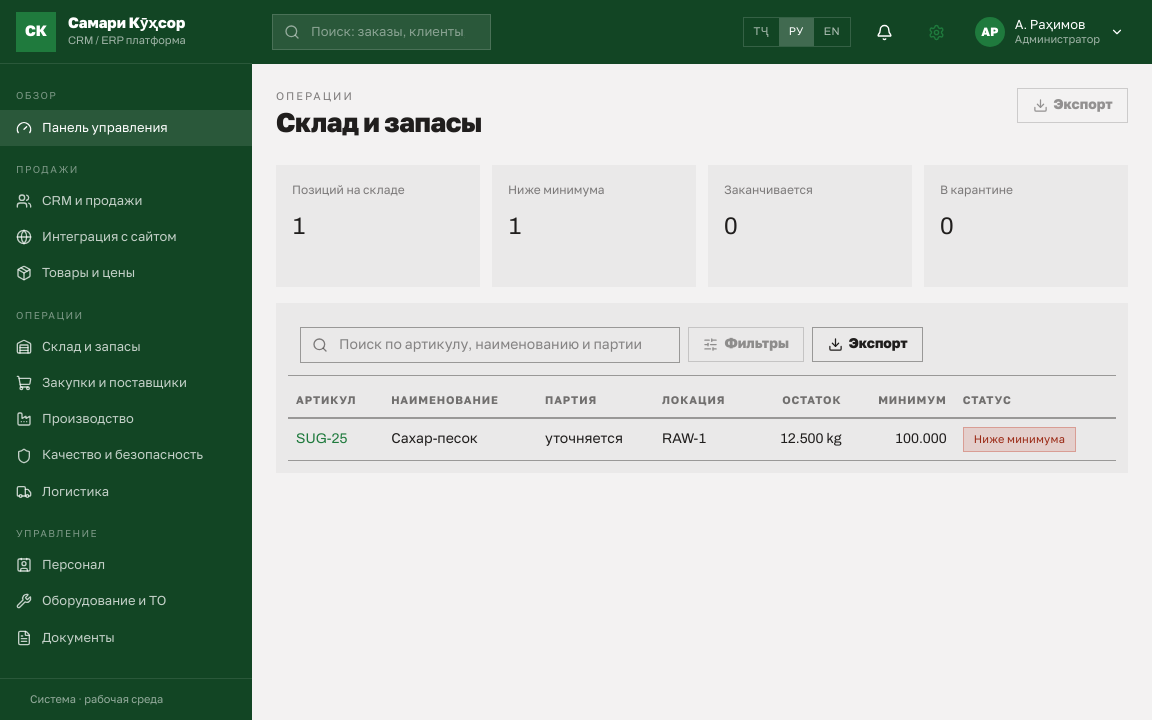
Test: Склад › shows the no-match state when a search excludes everything
Expected: the text "Сахар-песок" is shown, [383, 418, 537, 460]
Type "ничего" into the search field labelled "Поиск по артикулу, наименованию и партии" at (490, 345), box [300, 327, 680, 363]
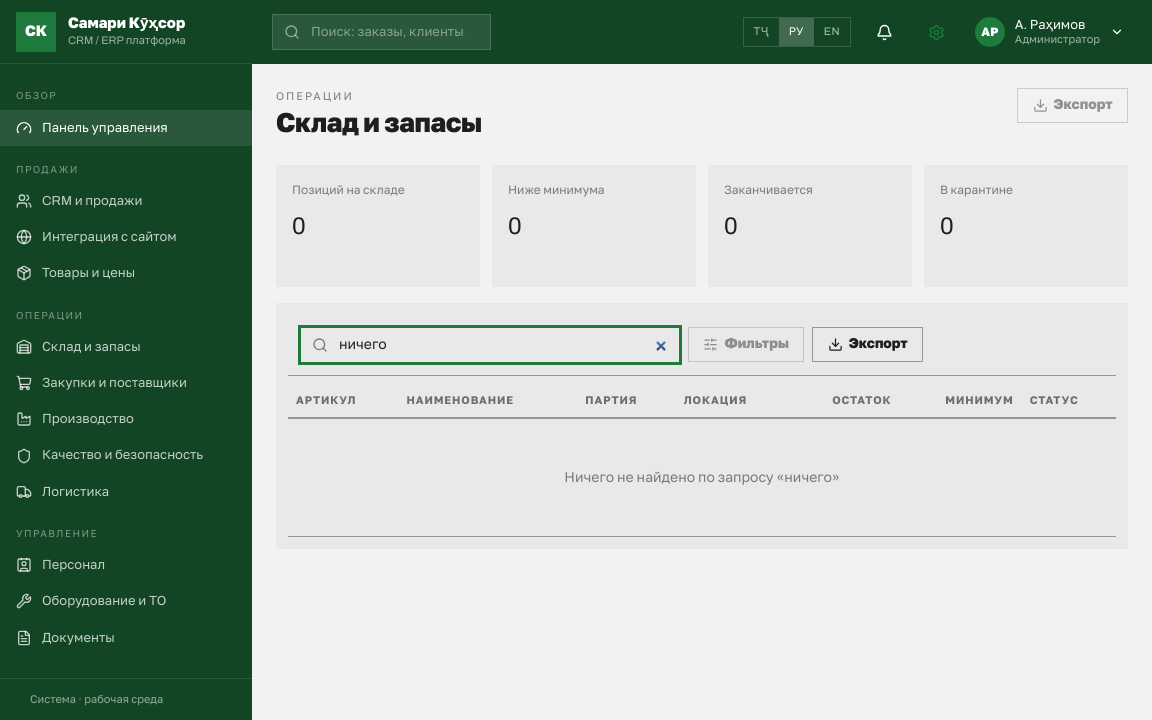
Expected: the cell with test id "list-no-match" is shown, [288, 418, 1116, 537]
